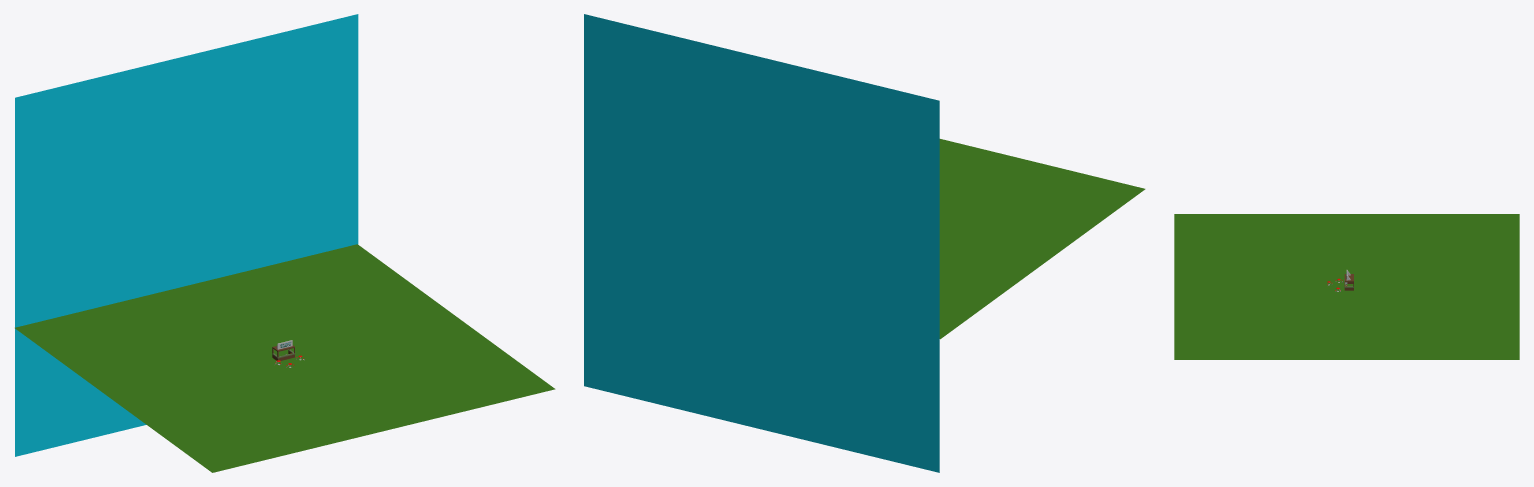
The model's file is JuiceBar_enviro_V1.fbx.
The picture shows the model from 3 angles, left to right: view 1: azimuth 30°, elevation 25°; view 2: azimuth 150°, elevation 25°; view 3: azimuth 270°, elevation 25°; orthographic projection. The views are drawn at different scales.
Visible parts, largest first — view 1: Plane.001, Plane; view 2: Plane.001, Plane; view 3: Plane.
Boxes of the visible parts, box(x1,y1,x2,y2) form: Plane.001: box(15, 14, 358, 456); Plane: box(15, 244, 555, 472); Plane.001: box(584, 14, 939, 472); Plane: box(939, 139, 1145, 339); Plane: box(1174, 214, 1519, 359).
Size of the model in its own units: 10020 by 10000 by 10000.
